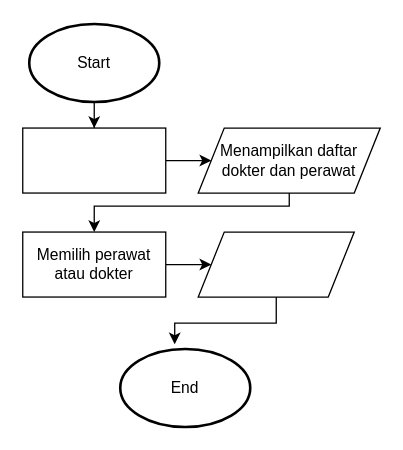
Some shapes in this 403 by 450 pixel diagram are drawn without their labels. The centre of each missing label's shape, as x and y in pixels:
Melakukan sesi konsultasi: the point at 275,264
Memilih Menu Chat Ahli: the point at 93,160
